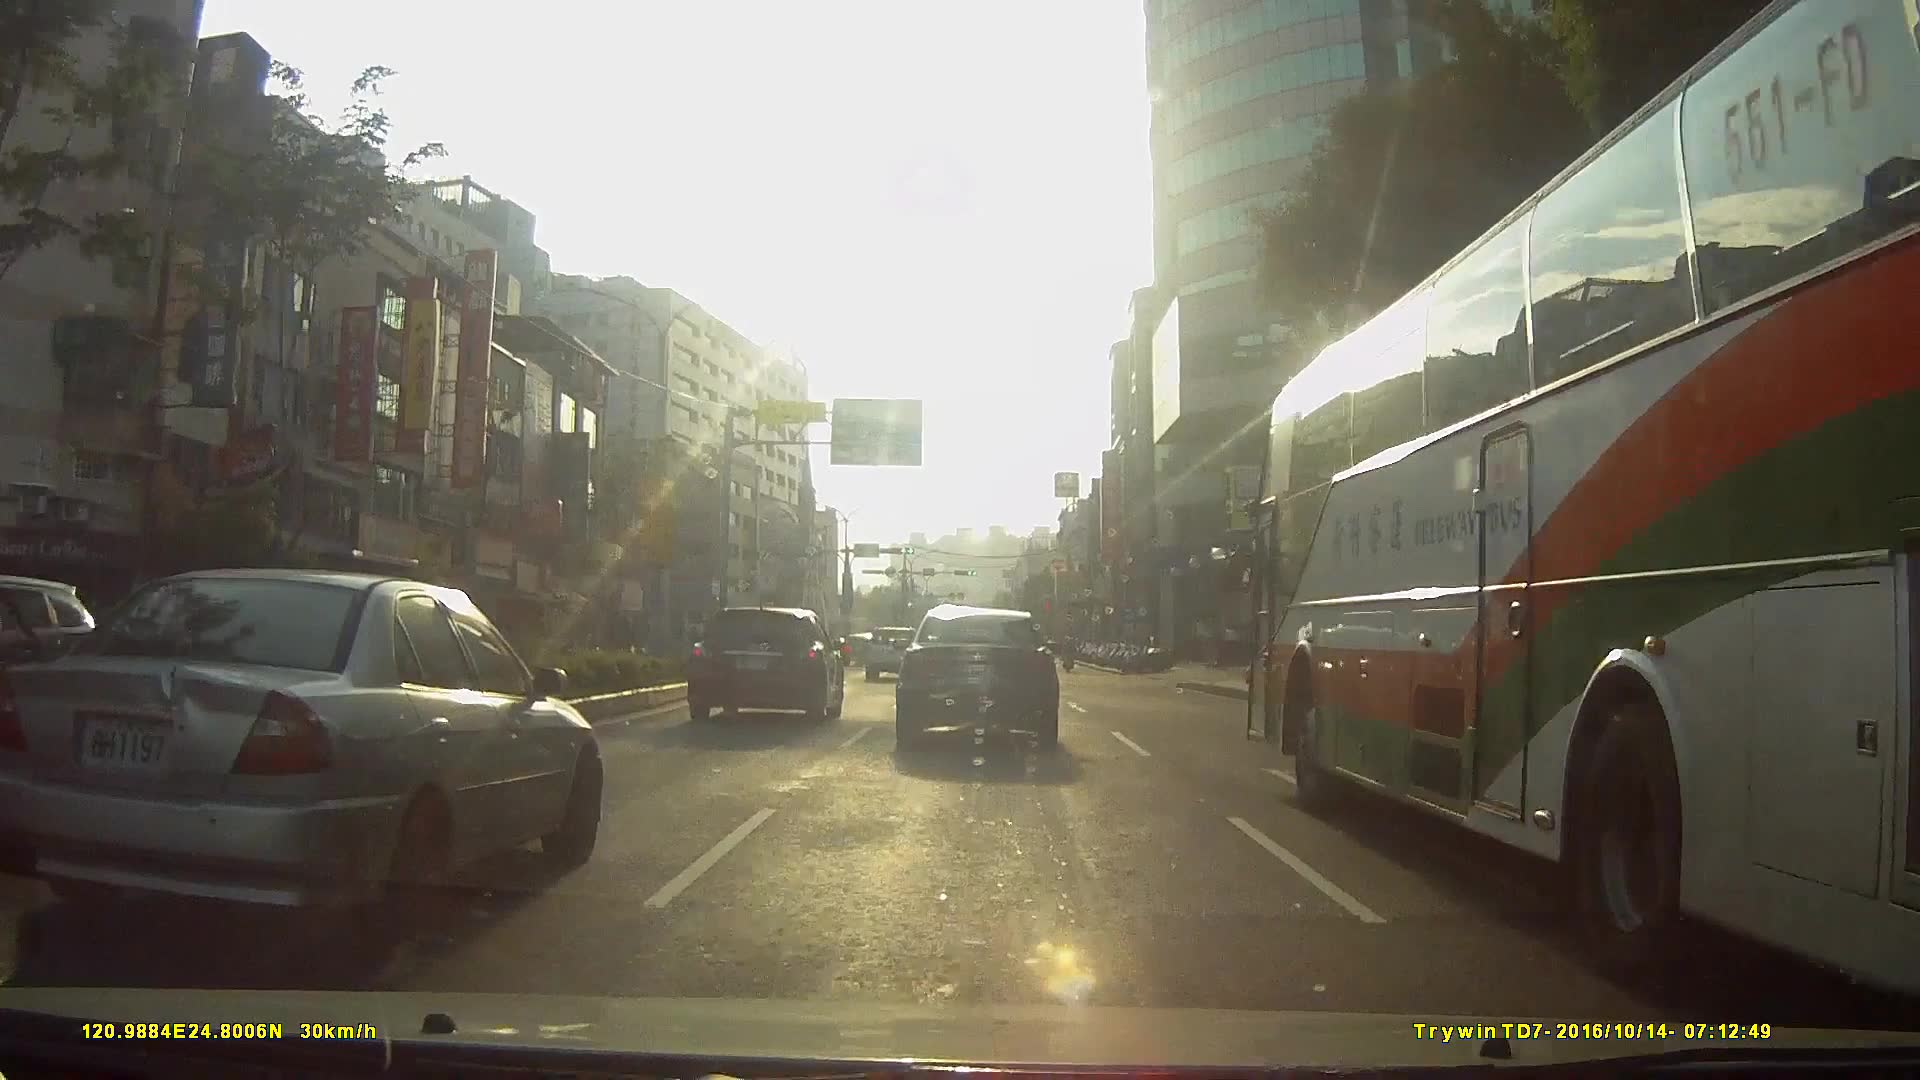vehicle: (1212, 36, 1916, 956), (0, 564, 600, 960), (890, 601, 1058, 750), (684, 604, 844, 721), (862, 625, 922, 680)
